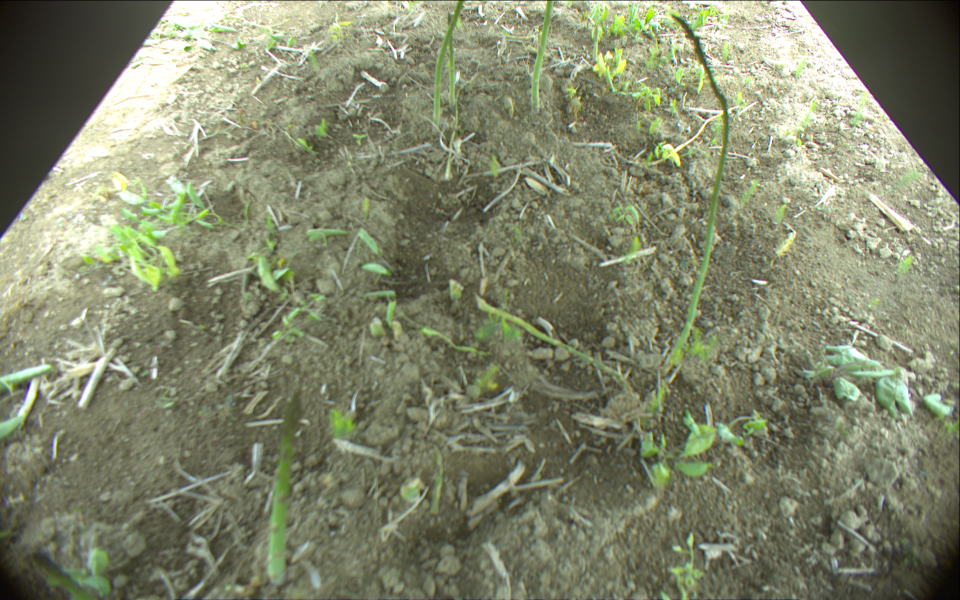aspa: (666, 11, 731, 374), (475, 297, 620, 377), (265, 390, 303, 582), (431, 1, 467, 123), (531, 1, 556, 112), (446, 13, 457, 106)
